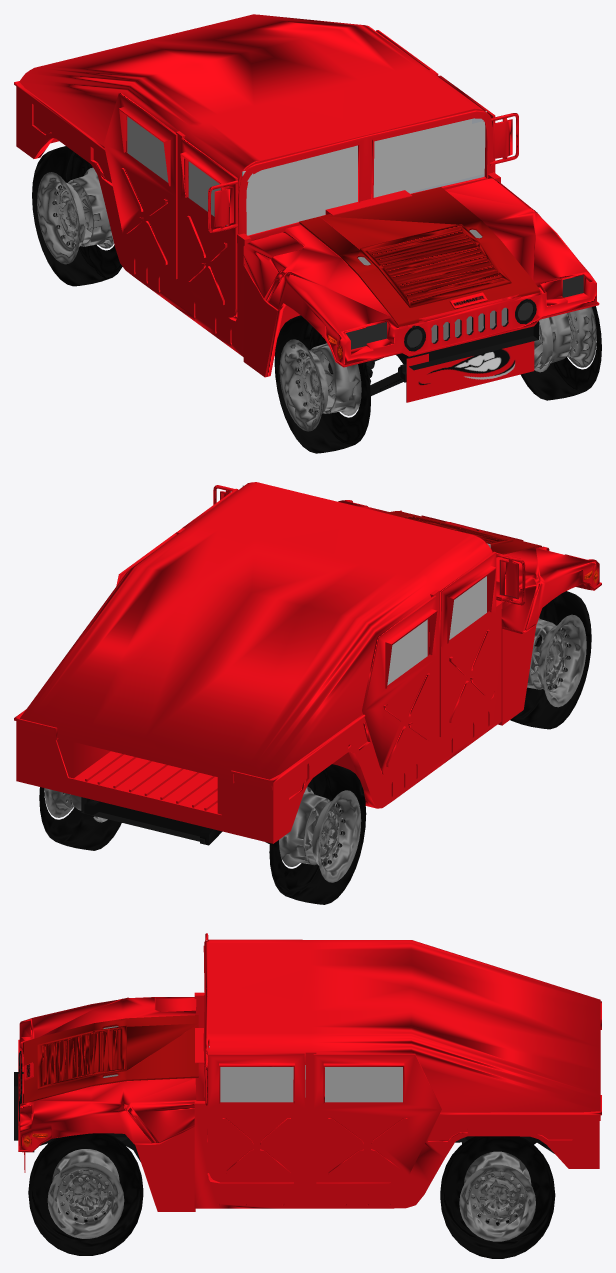
File: autoTexturizado.obj
3 renders of one model, top to bottom at view 1: azimuth 30°, elevation 25°; view 2: azimuth 150°, elevation 25°; view 3: azimuth 270°, elevation 25°, orthographic. The views are drawn at different scales.
Parts seen in each view (by area): view 1: Cube.002_tan.001, Cube.002_tan.003, Cube.002_Material.007, Cube.002_flgrey.010, Cube.002_flgrey.013, Cube.002_Material.005, Cube.002_rubber.006, Cube.002_rubber.009, Cube.002_dkgrey.001, Cube.002_flgrey.009, Cube.002_rubber.005, Cube.002_Material.003 (+2 smaller); view 2: Cube.002_tan.001, Cube.002_flgrey.013, Cube.002_rubber.009, Cube.002_flgrey.010, Cube.002_rubber.006, Cube.002_Material.003, Cube.002_dkgrey.001, Cube.002_rubber.008, Cube.002_tan.003, Cube.002_flgrey.012; view 3: Cube.002_tan.001, Cube.002_tan.003, Cube.002_rubber.008, Cube.002_rubber.005, Cube.002_Material.004, Cube.002_flgrey.012, Cube.002_flgrey.009, Cube.002_dkgrey.001.
Boxes of the visible parts, bbox=[...] form: Cube.002_tan.001: bbox=[14, 14, 599, 377]; Cube.002_tan.003: bbox=[299, 187, 539, 326]; Cube.002_Material.007: bbox=[242, 111, 486, 235]; Cube.002_flgrey.010: bbox=[279, 339, 361, 431]; Cube.002_flgrey.013: bbox=[37, 167, 113, 264]; Cube.002_Material.005: bbox=[406, 341, 534, 402]; Cube.002_rubber.006: bbox=[274, 315, 370, 453]; Cube.002_rubber.009: bbox=[32, 146, 122, 286]; Cube.002_dkgrey.001: bbox=[328, 299, 539, 395]; Cube.002_flgrey.009: bbox=[534, 307, 596, 372]; Cube.002_rubber.005: bbox=[520, 306, 601, 400]; Cube.002_Material.003: bbox=[127, 116, 227, 225]; Cube.002_tan.001: bbox=[14, 482, 601, 843]; Cube.002_flgrey.013: bbox=[279, 786, 361, 882]; Cube.002_rubber.009: bbox=[269, 764, 366, 904]; Cube.002_flgrey.010: bbox=[527, 614, 586, 707]; Cube.002_rubber.006: bbox=[510, 591, 591, 729]; Cube.002_Material.003: bbox=[387, 576, 486, 685]; Cube.002_dkgrey.001: bbox=[81, 634, 541, 845]; Cube.002_rubber.008: bbox=[39, 787, 121, 850]; Cube.002_tan.003: bbox=[385, 511, 541, 557]; Cube.002_flgrey.012: bbox=[44, 788, 107, 822]; Cube.002_tan.001: bbox=[18, 933, 601, 1211]; Cube.002_tan.003: bbox=[23, 1015, 198, 1103]; Cube.002_rubber.008: bbox=[440, 1136, 555, 1258]; Cube.002_rubber.005: bbox=[28, 1133, 143, 1255]; Cube.002_Material.004: bbox=[220, 1065, 402, 1102]; Cube.002_flgrey.012: bbox=[459, 1151, 535, 1241]; Cube.002_flgrey.009: bbox=[47, 1149, 124, 1238]; Cube.002_dkgrey.001: bbox=[14, 1051, 554, 1161].
Size of the model in its own units: 57.85 by 43.15 by 107.
